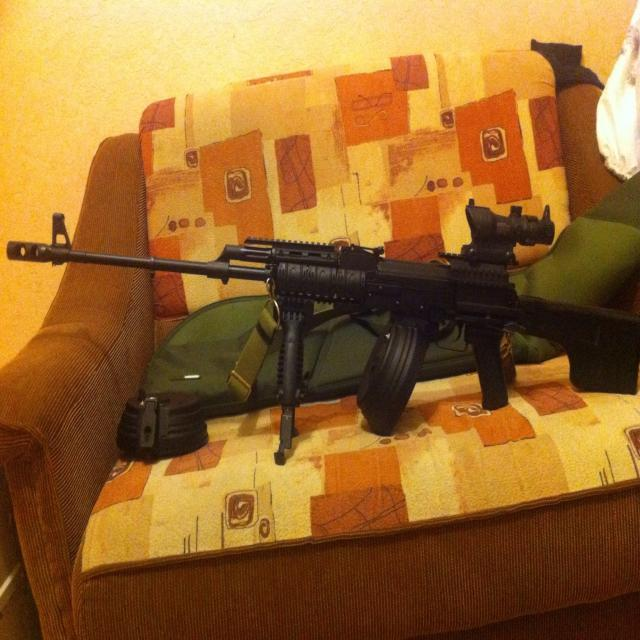firearm: (8, 200, 640, 435)
